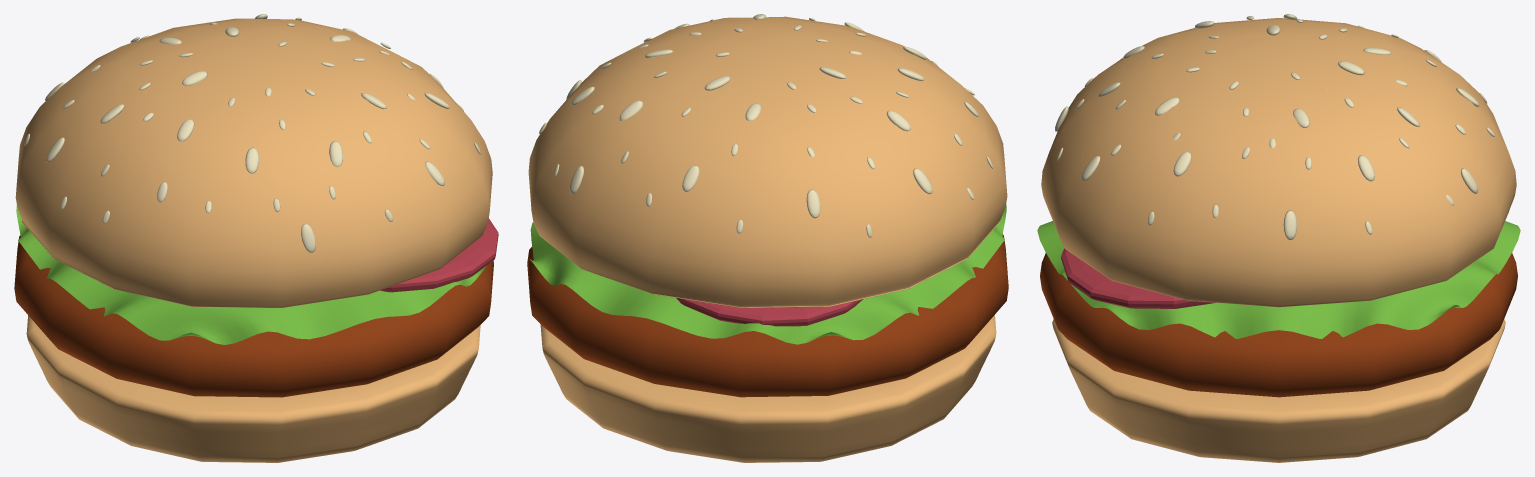
File: hamburguesa.glb
3 views of the same model, side by side, from view 1: azimuth 30°, elevation 25°; view 2: azimuth 150°, elevation 25°; view 3: azimuth 270°, elevation 25° (orthographic).
Parts seen in each view (by area): view 1: Cube.002, Carne, Pan Inferior, Plane, pepita pequeña, tomate; view 2: Cube.002, Carne, Pan Inferior, Plane, pepita pequeña, tomate; view 3: Cube.002, Carne, Pan Inferior, Plane, pepita pequeña, tomate.
Part boxes in pixels (x1,y1,x2,y2): Cube.002: (15, 18, 492, 307); Carne: (14, 235, 493, 397); Pan Inferior: (26, 315, 480, 462); Plane: (16, 205, 486, 344); pepita pequeña: (24, 14, 480, 252); tomate: (380, 218, 498, 292); Cube.002: (528, 16, 1007, 307); Carne: (527, 234, 1008, 397); Pan Inferior: (540, 315, 996, 462); Plane: (529, 204, 1006, 344); pepita pequeña: (539, 14, 993, 237); tomate: (676, 298, 863, 326); Cube.002: (1041, 18, 1516, 307); Carne: (1040, 253, 1517, 397); Pan Inferior: (1052, 319, 1505, 462); Plane: (1037, 221, 1520, 338); pepita pequeña: (1055, 14, 1494, 239); tomate: (1061, 248, 1215, 308).
Size of the model in its own units: 1.91 by 1.45 by 1.93.
